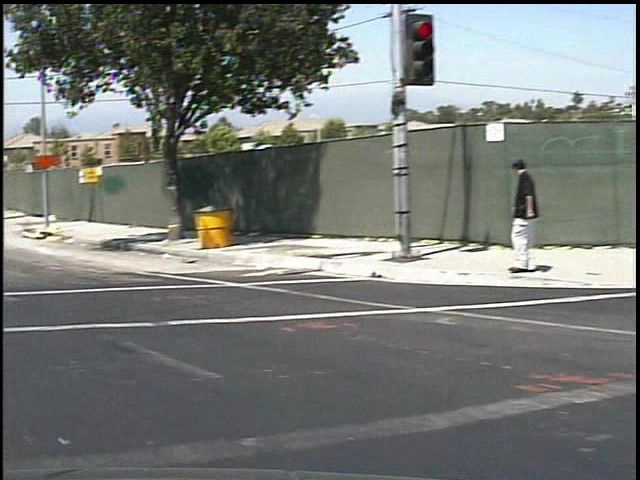person: (487, 151, 538, 287)
